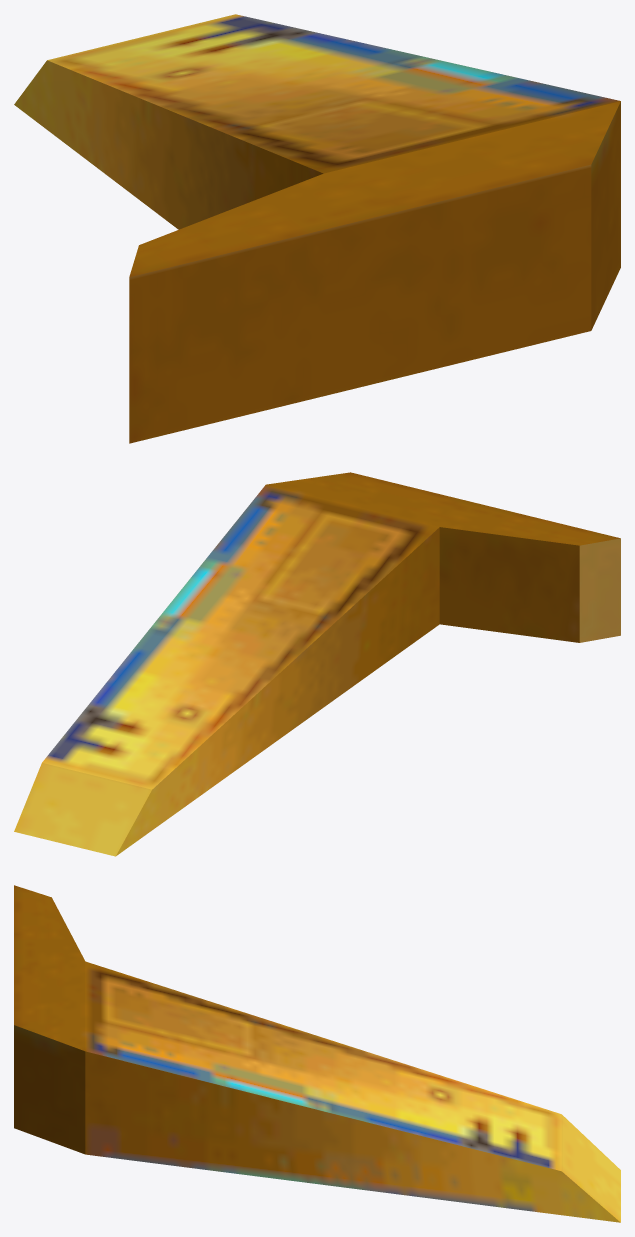
The picture shows the model from 3 angles, top to bottom: view 1: azimuth 30°, elevation 25°; view 2: azimuth 150°, elevation 25°; view 3: azimuth 270°, elevation 25°; orthographic projection. The views are drawn at different scales.
Parts seen in each view (by area): view 1: aw204; view 2: aw204; view 3: aw204.
Part boxes in pixels (x1,y1,x2,y2): aw204: (14, 14, 620, 443); aw204: (14, 472, 620, 856); aw204: (14, 885, 620, 1222).
Size of the model in its own units: 7.7 by 3.71 by 11.89.
Materials: 1 (1 with a texture image).
